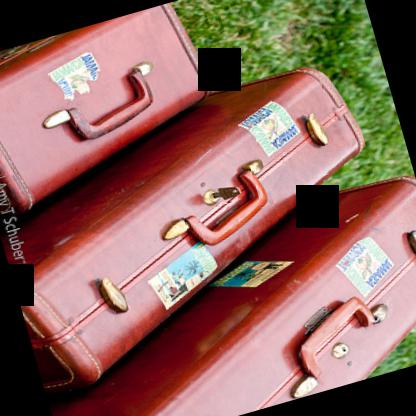suitcase: (0, 67, 368, 396), (47, 174, 416, 416), (0, 4, 212, 215)
